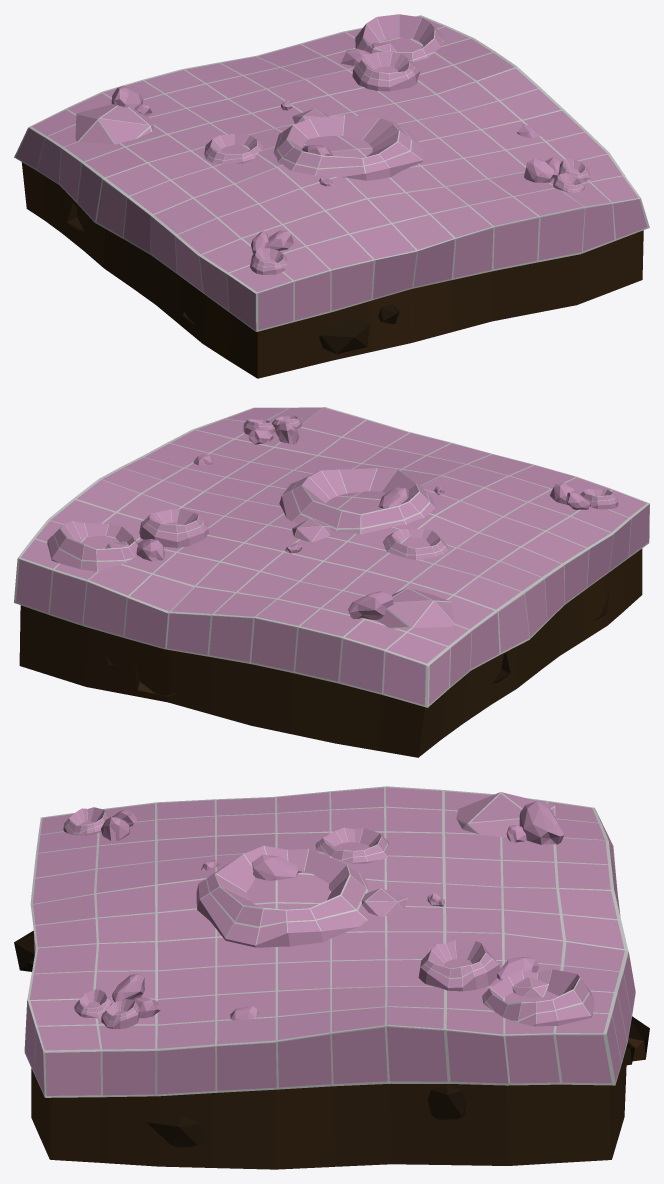
Rendered from sol.fbx.
The picture shows the model from 3 angles, top to bottom: view 1: azimuth 30°, elevation 25°; view 2: azimuth 150°, elevation 25°; view 3: azimuth 270°, elevation 25°; orthographic projection. The views are drawn at different scales.
Visible parts, largest first — view 1: Box001; view 2: Box001; view 3: Box001.
Part boxes in pixels (x1,y1,x2,y2): Box001: [14, 14, 649, 378]; Box001: [14, 407, 649, 757]; Box001: [14, 786, 649, 1169].
Size of the model in its own units: 1074 by 314 by 1099.
